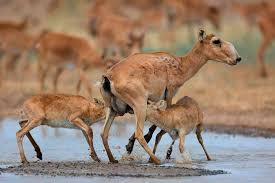saiga: (99, 25, 243, 176), (126, 99, 215, 163)
